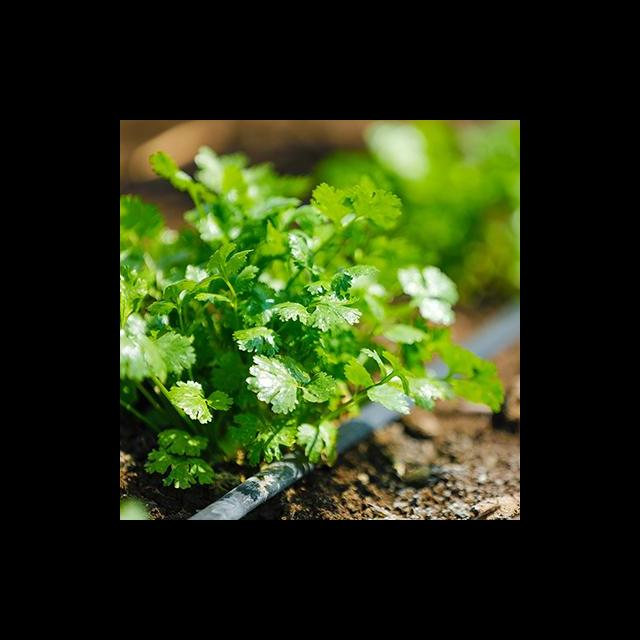cilantro: (120, 143, 506, 495)
